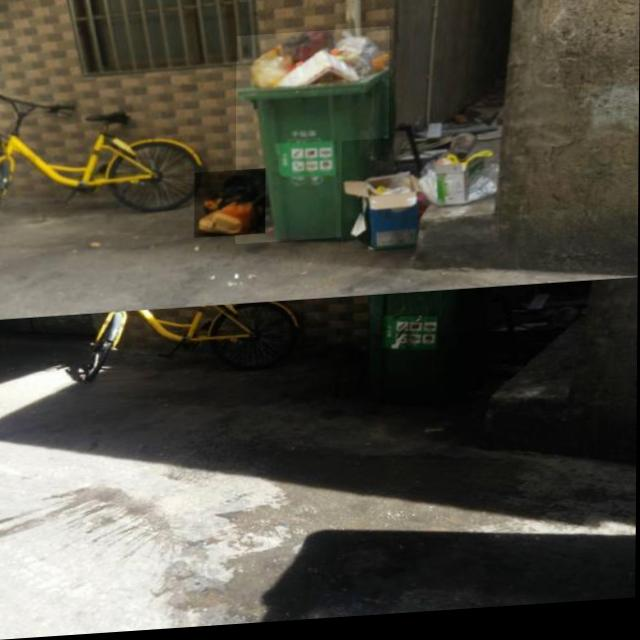garbage: (342, 138, 500, 257), (194, 172, 266, 241)
overflow: (235, 31, 390, 248)
